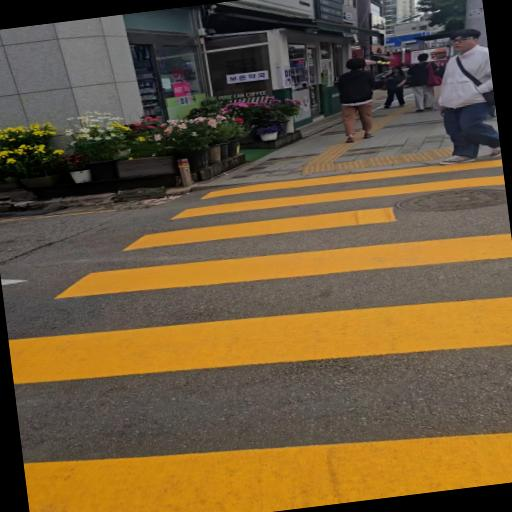yellow-crosswalk: (0, 142, 512, 512)
